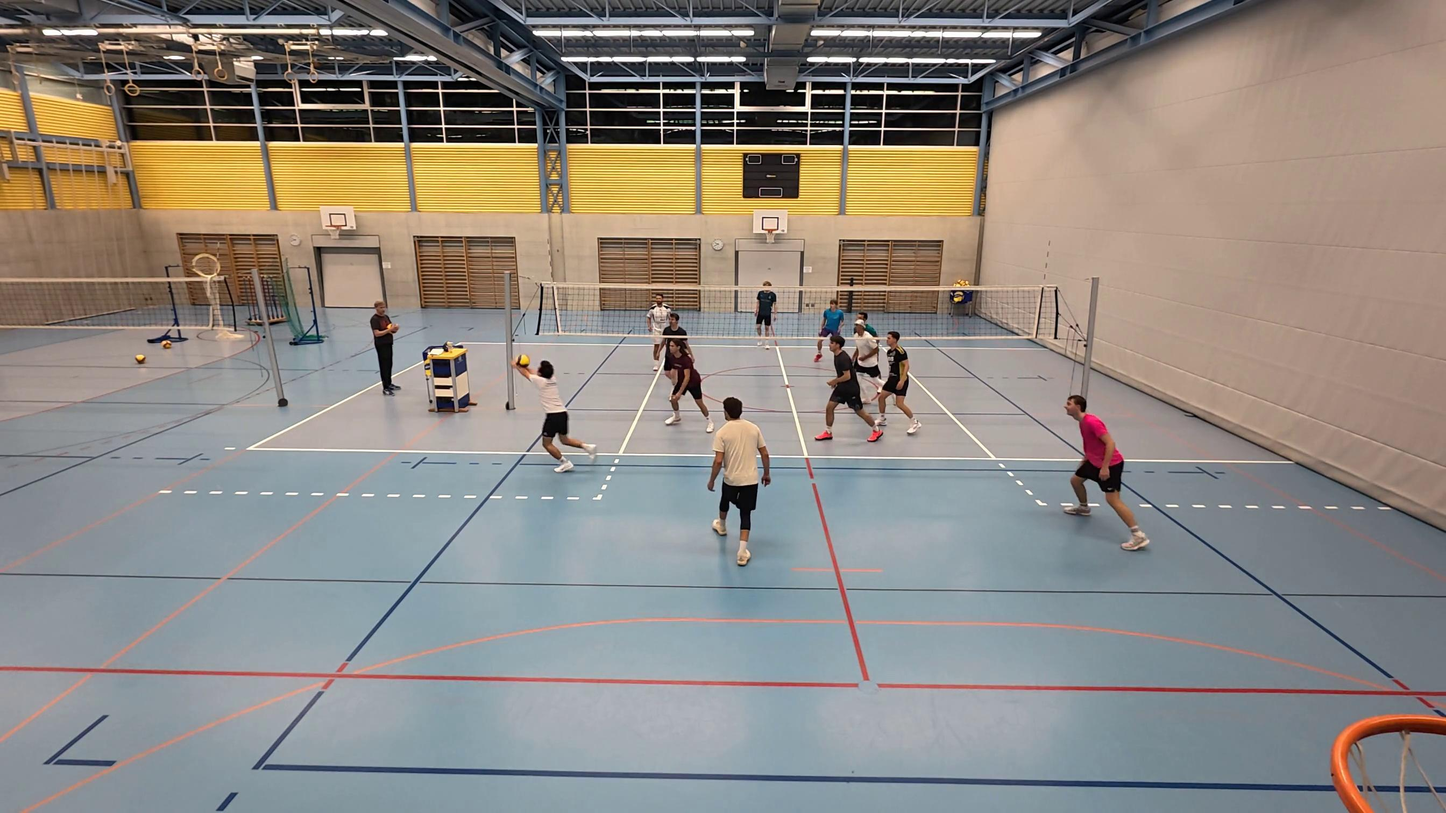difesa: (508, 355, 596, 474)
